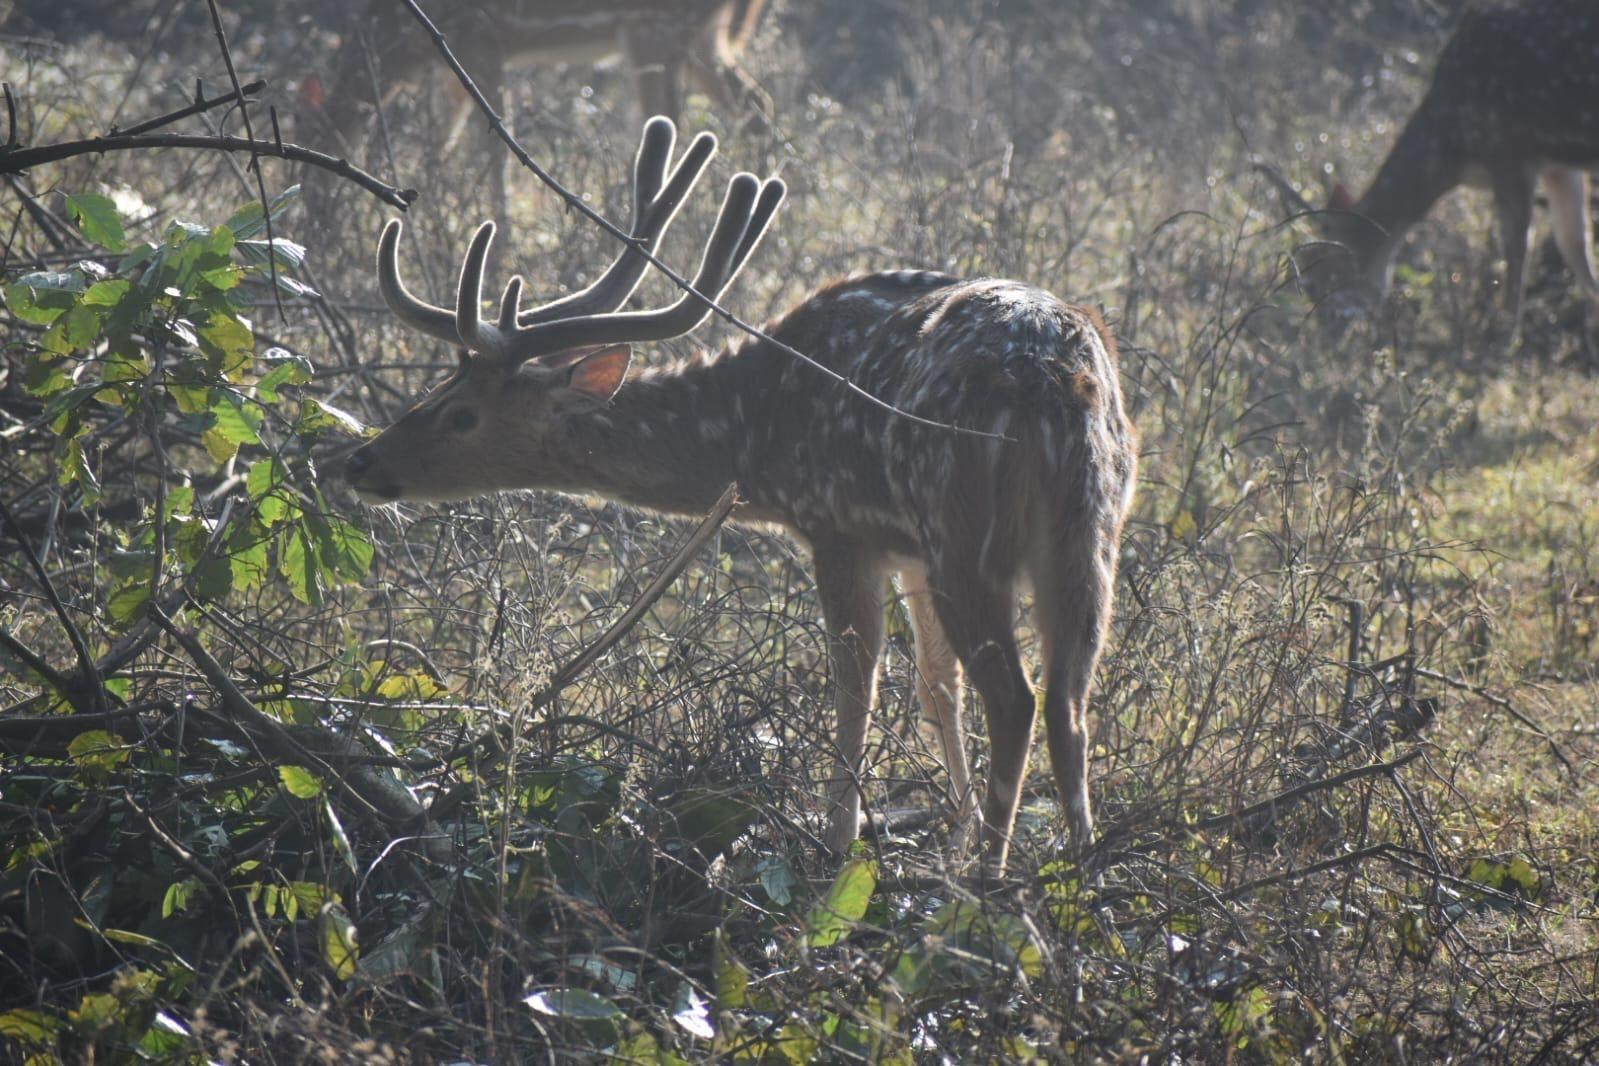Deer: (321, 218, 1137, 867)
